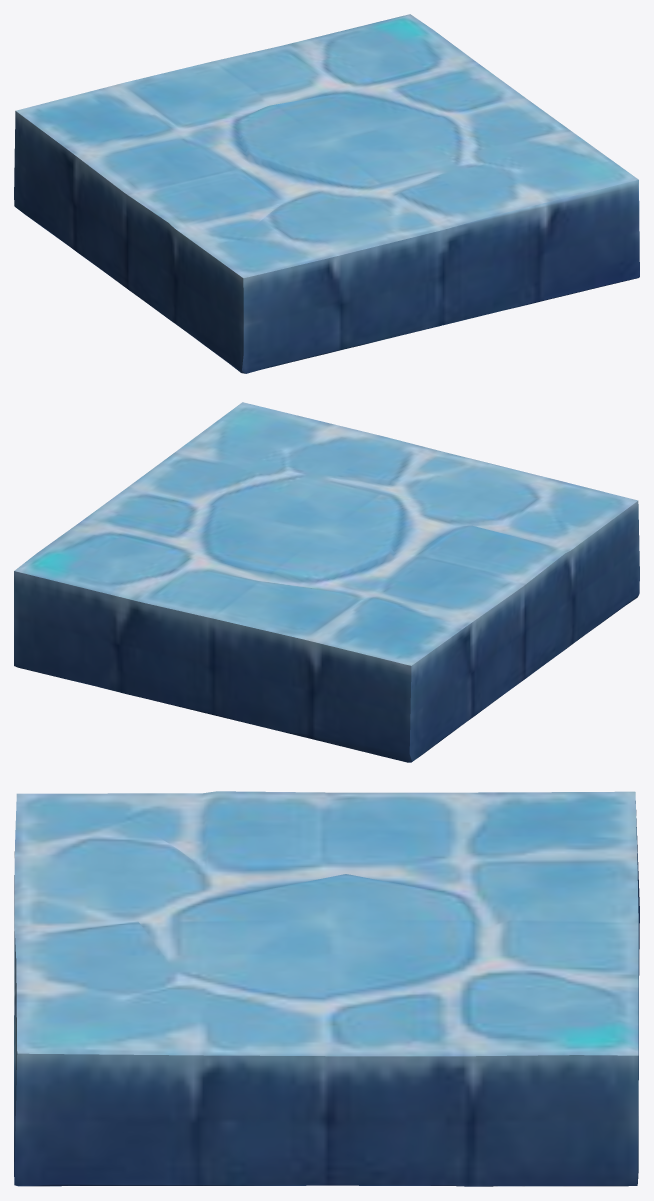
Rendered from b_givre_sol_2.glb.
3 renders of one model, top to bottom at view 1: azimuth 30°, elevation 25°; view 2: azimuth 150°, elevation 25°; view 3: azimuth 270°, elevation 25°, orthographic. The views are drawn at different scales.
Visible parts, largest first — view 1: geometry_0; view 2: geometry_0; view 3: geometry_0.
Boxes of the visible parts, x1,y1,x2,y2 form: geometry_0: (14, 14, 639, 373); geometry_0: (14, 402, 639, 762); geometry_0: (14, 791, 639, 1186).
Size of the model in its own units: 1 by 0.2419 by 1.
1 material, 1 textured.
